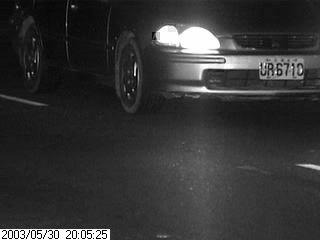plate: (258, 54, 305, 83)
